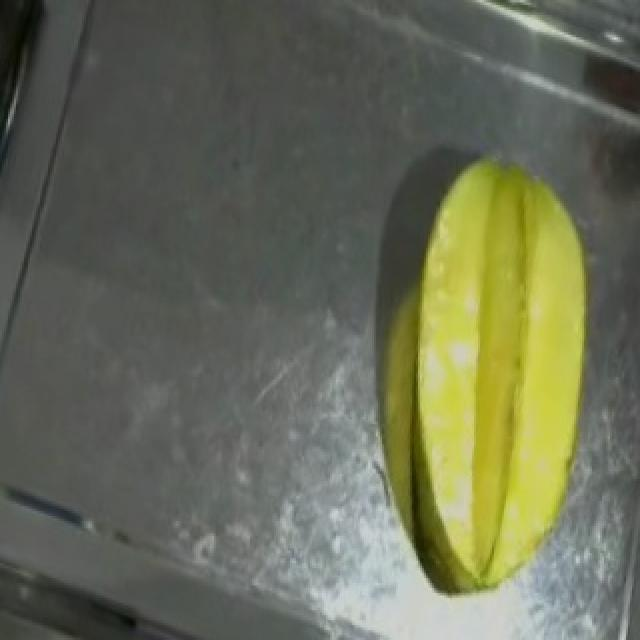fruit: (388, 134, 640, 518)
